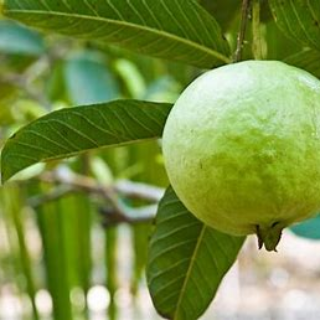oi: (155, 57, 320, 253)
